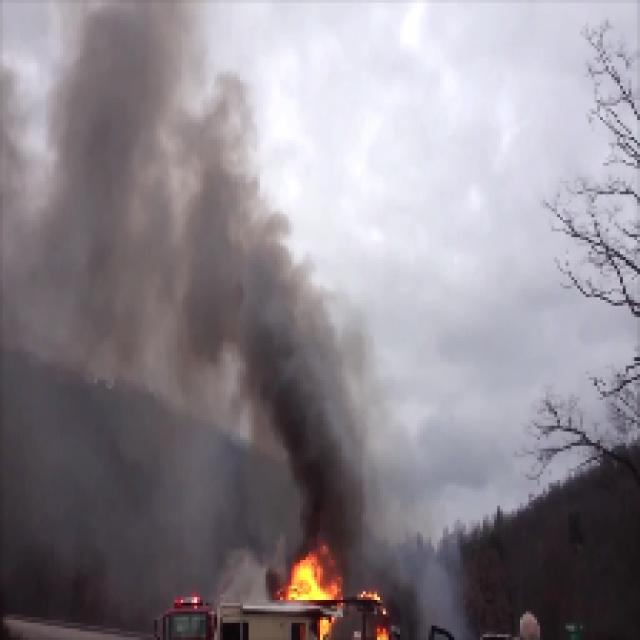fire: (281, 550, 329, 604)
smoke: (94, 52, 214, 234), (155, 226, 300, 366), (282, 370, 357, 530)
